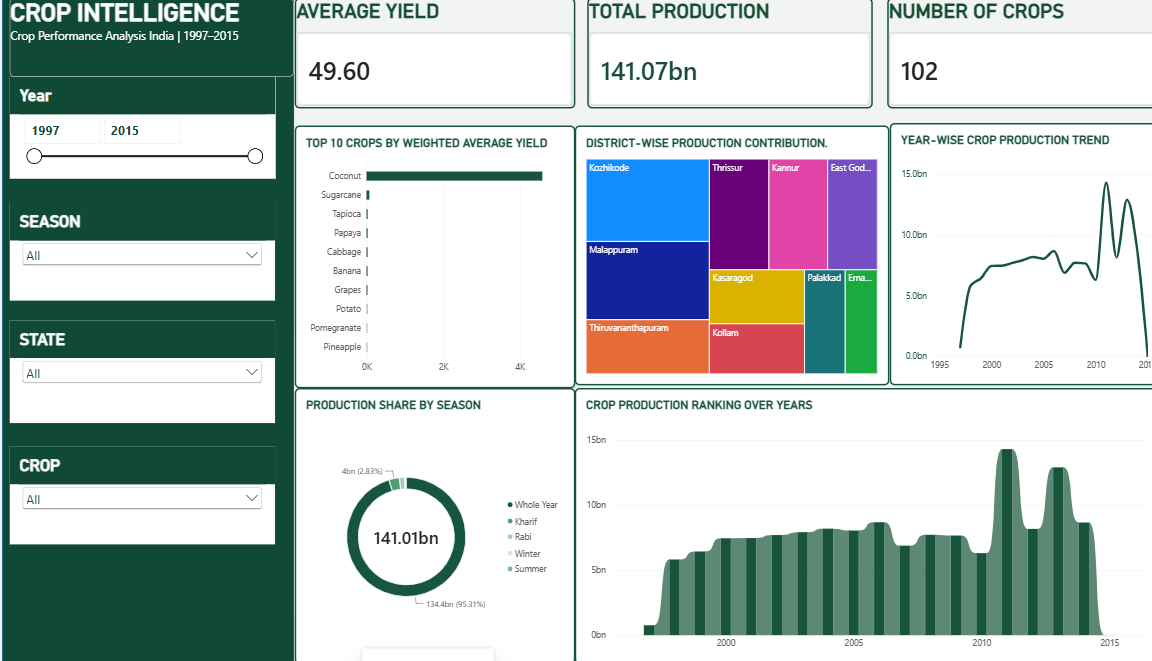

What the dashboard file says about the page in this screenshot:
{"tool":"powerbi","page":{"name":"Crop Intelligence","canvas":[1920,1080],"ordinal":1},"visuals":[{"type":"shape","box":[10.3,0,473.4,1080.6],"z":0},{"type":"textbox","title":"CROP INTELLIGENCE","box":[22.6,0,461.1,127.6],"z":1000},{"type":"slicer","title":"Year","fields":{"Values":["CropProduction.Crop_Year"]},"box":[22.6,127.6,430.2,164.7],"z":2000},{"type":"slicer","title":"SEASON","fields":{"Values":["CropProduction.Season"]},"box":[22.6,333.4,430.2,158.5],"z":3000},{"type":"slicer","title":"STATE","fields":{"Values":["CropProduction.State_Name"]},"box":[22.6,522.8,430.2,166.7],"z":4000},{"type":"slicer","title":"CROP","fields":{"Values":["CropProduction.Crop"]},"box":[22.6,728.6,430.2,158.5],"z":5000},{"type":"cardVisual","title":"AVERAGE YIELD","fields":{"Data":["CropProduction.Weighted Average Yield"]},"box":[483.7,0,454.9,179.1],"z":6000},{"type":"cardVisual","title":"TOTAL PRODUCTION","fields":{"Data":["CropProduction.Total Production"]},"box":[959.2,0,463.1,179.1],"z":7000},{"type":"cardVisual","title":"NUMBER OF CROPS","fields":{"Data":["CropProduction.Number of Crops"]},"box":[1444.9,0,454.9,179.1],"z":8000},{"type":"clusteredBarChart","title":"TOP 10 CROPS BY WEIGHTED AVERAGE YIELD","fields":{"Category":["CropProduction.Crop"],"Y":["CropProduction.Weighted Average Yield"]},"box":[483.7,205.8,454.9,426.1],"z":9000},{"type":"treemap","title":"DISTRICT-WISE PRODUCTION CONTRIBUTION.","fields":{"Group":["CropProduction.District_Name"],"Values":["CropProduction.Total Production"]},"box":[938.9,206.8,510.5,422],"z":10000},{"type":"lineChart","title":"YEAR-WISE CROP PRODUCTION TREND","fields":{"Category":["CropProduction.Crop_Year"],"Y":["CropProduction.Total Production"]},"box":[1449.9,202.8,454.2,425.9],"z":11000},{"type":"donutChart","title":"PRODUCTION SHARE BY SEASON","fields":{"Category":["CropProduction.Season"],"Y":["CropProduction.Total Production"]},"box":[484,632,455,448],"z":12000},{"type":"ribbonChart","title":"CROP PRODUCTION RANKING OVER YEARS","fields":{"Category":["CropProduction.Crop_Year"],"Y":["CropProduction.Total Production"]},"box":[938.9,632.7,947,448.2],"z":13000}]}

Visuals, with their boxes in screenshot pixels (x1, y1, x2, y2), scaled from the page's 1920x1080 canvas onto the 1152x661 screenshot:
shape: bbox=[6, 0, 290, 660]
"CROP INTELLIGENCE" textbox: bbox=[14, 0, 290, 78]
"Year" slicer: bbox=[14, 78, 272, 179]
"SEASON" slicer: bbox=[14, 204, 272, 301]
"STATE" slicer: bbox=[14, 320, 272, 422]
"CROP" slicer: bbox=[14, 446, 272, 543]
"AVERAGE YIELD" cardVisual: bbox=[290, 0, 563, 110]
"TOTAL PRODUCTION" cardVisual: bbox=[576, 0, 853, 110]
"NUMBER OF CROPS" cardVisual: bbox=[867, 0, 1140, 110]
"TOP 10 CROPS BY WEIGHTED AVERAGE YIELD" clusteredBarChart: bbox=[290, 126, 563, 387]
"DISTRICT-WISE PRODUCTION CONTRIBUTION." treemap: bbox=[563, 127, 870, 385]
"YEAR-WISE CROP PRODUCTION TREND" lineChart: bbox=[870, 124, 1142, 385]
"PRODUCTION SHARE BY SEASON" donutChart: bbox=[290, 387, 563, 660]
"CROP PRODUCTION RANKING OVER YEARS" ribbonChart: bbox=[563, 387, 1132, 660]
